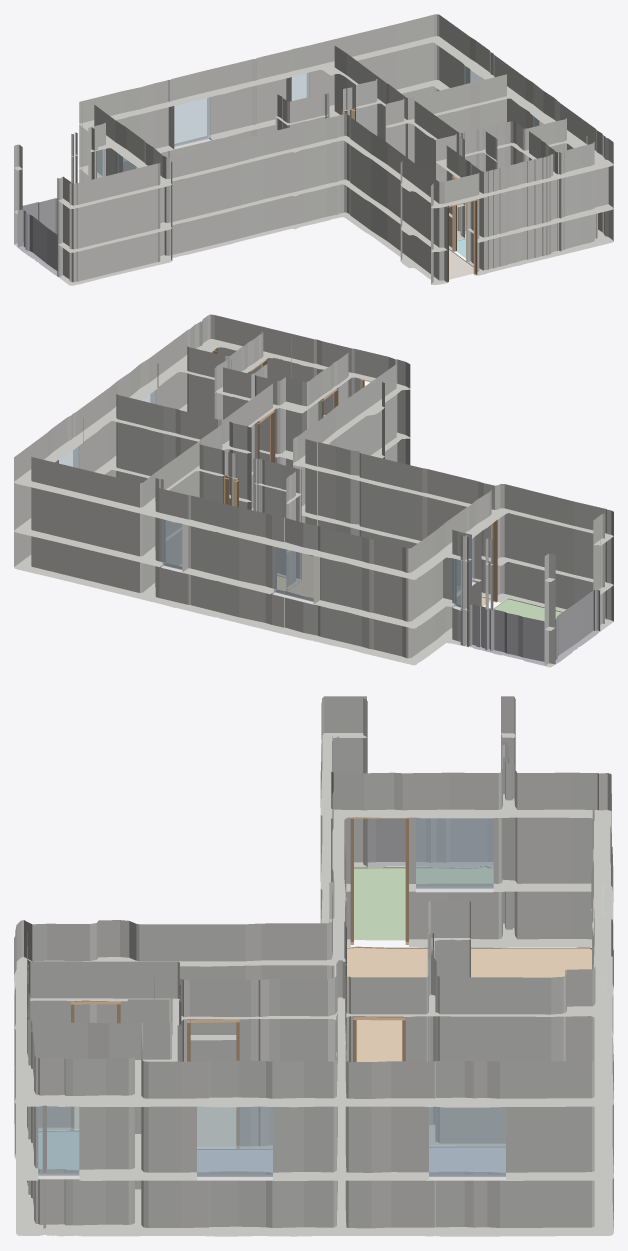
3 renders of one model, top to bottom at view 1: azimuth 30°, elevation 25°; view 2: azimuth 150°, elevation 25°; view 3: azimuth 270°, elevation 25°, orthographic. The views are drawn at different scales.
Parts seen in each view (by area): view 1: walls, railings, window_10, door_8, floor_6_Entry, window_9; view 2: walls, railings, window_10, window_9, floor_0_Outdoor, floor_2_Living_Room; view 3: walls, floor_2_Living_Room, railings, window_13, window_12, window_14, floor_0_Outdoor, window_15, floor_4_Bed_Room, floor_3_Bed_Room, floor_6_Entry, floor_5_Bath (+1 smaller).
Part boxes in pixels (left/top/right/bottom): walls: left=14, top=14, right=613, bottom=285; railings: left=17, top=198, right=57, bottom=275; window_10: left=171, top=97, right=210, bottom=146; door_8: left=447, top=199, right=477, bottom=282; floor_6_Entry: left=449, top=249, right=473, bottom=279; window_9: left=291, top=72, right=309, bottom=100; walls: left=14, top=314, right=613, bottom=667; railings: left=462, top=590, right=599, bottom=665; window_10: left=273, top=543, right=313, bottom=601; window_9: left=162, top=519, right=185, bottom=569; floor_0_Outdoor: left=493, top=598, right=562, bottom=621; floor_2_Living_Room: left=287, top=553, right=490, bottom=606; walls: left=14, top=696, right=613, bottom=1236; floor_2_Living_Room: left=347, top=946, right=591, bottom=1061; railings: left=367, top=818, right=493, bottom=866; window_13: left=416, top=817, right=493, bottom=888; window_12: left=429, top=1102, right=505, bottom=1176; window_14: left=197, top=1106, right=272, bottom=1176; floor_0_Outdoor: left=354, top=866, right=493, bottom=940; window_15: left=38, top=1105, right=79, bottom=1175; floor_4_Bed_Room: left=429, top=1146, right=505, bottom=1172; floor_3_Bed_Room: left=197, top=1149, right=272, bottom=1172; floor_6_Entry: left=74, top=1106, right=235, bottom=1146; floor_5_Bath: left=38, top=1130, right=78, bottom=1169.
Size of the model in its own units: 13.06 by 2.72 by 8.83.
